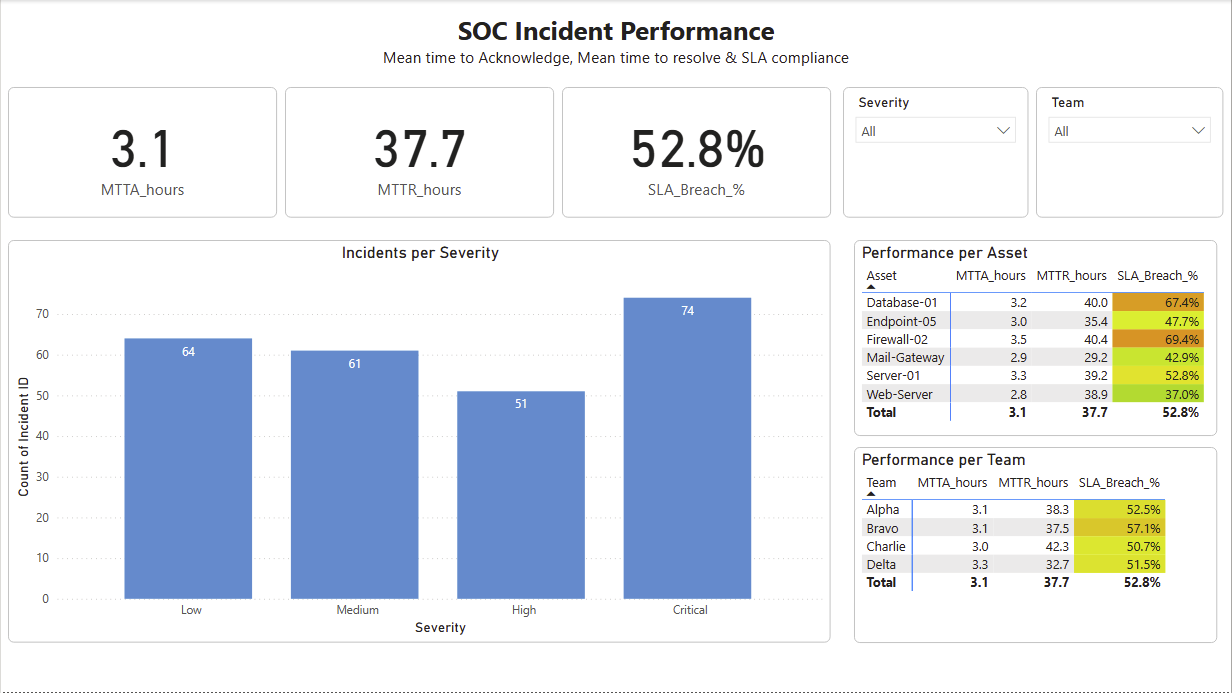

The dashboard page shown, as its layout file describes it:
{"tool":"powerbi","page":{"name":"Page 1","canvas":[1280,720],"ordinal":0},"visuals":[{"type":"card","fields":{"Values":["cyber_incidents.MTTA_hours"]},"box":[7.3,90.5,279.9,136.3],"z":0},{"type":"card","fields":{"Values":["cyber_incidents.MTTR_hours"]},"box":[295.5,90.5,279.9,136.3],"z":1000},{"type":"card","fields":{"Values":["cyber_incidents.SLA_Breach_%"]},"box":[583.8,90.5,279.9,136.3],"z":2000},{"type":"clusteredColumnChart","title":"Incidents per Severity","fields":{"Category":["cyber_incidents.Severity"],"Y":["CountNonNull(cyber_incidents.Incident ID)"]},"box":[7.3,249.8,856.5,419.4],"z":3000},{"type":"pivotTable","title":"Performance per Asset","fields":{"Rows":["cyber_incidents.Asset"],"Values":["cyber_incidents.MTTA_hours","cyber_incidents.MTTR_hours","cyber_incidents.SLA_Breach_%"]},"box":[887.7,249.8,377.8,204],"z":4000},{"type":"pivotTable","title":"Performance per Team","fields":{"Rows":["cyber_incidents.Team"],"Values":["cyber_incidents.MTTA_hours","cyber_incidents.MTTR_hours","cyber_incidents.SLA_Breach_%"]},"box":[887.7,465.2,377.8,204],"z":5000},{"type":"slicer","fields":{"Values":["cyber_incidents.Severity"]},"box":[876.2,90.5,192.5,136.3],"z":6000},{"type":"slicer","fields":{"Values":["cyber_incidents.Team"]},"box":[1077.1,90.5,194.6,136.3],"z":7000},{"type":"textbox","box":[352.8,7.3,574.4,73.9],"z":8000}]}

Visuals, with their boxes in screenshot pixels (x1, y1, x2, y2), scaled from the page's 1280x720 canvas onto the 1232x693 screenshot:
card - cyber_incidents.MTTA_hours: bbox(7, 87, 276, 218)
card - cyber_incidents.MTTR_hours: bbox(284, 87, 554, 218)
card - cyber_incidents.SLA_Breach_%: bbox(562, 87, 831, 218)
"Incidents per Severity" clusteredColumnChart: bbox(7, 240, 831, 644)
"Performance per Asset" pivotTable: bbox(854, 240, 1218, 437)
"Performance per Team" pivotTable: bbox(854, 448, 1218, 644)
slicer - cyber_incidents.Severity: bbox(843, 87, 1029, 218)
slicer - cyber_incidents.Team: bbox(1037, 87, 1224, 218)
textbox: bbox(340, 7, 892, 78)
